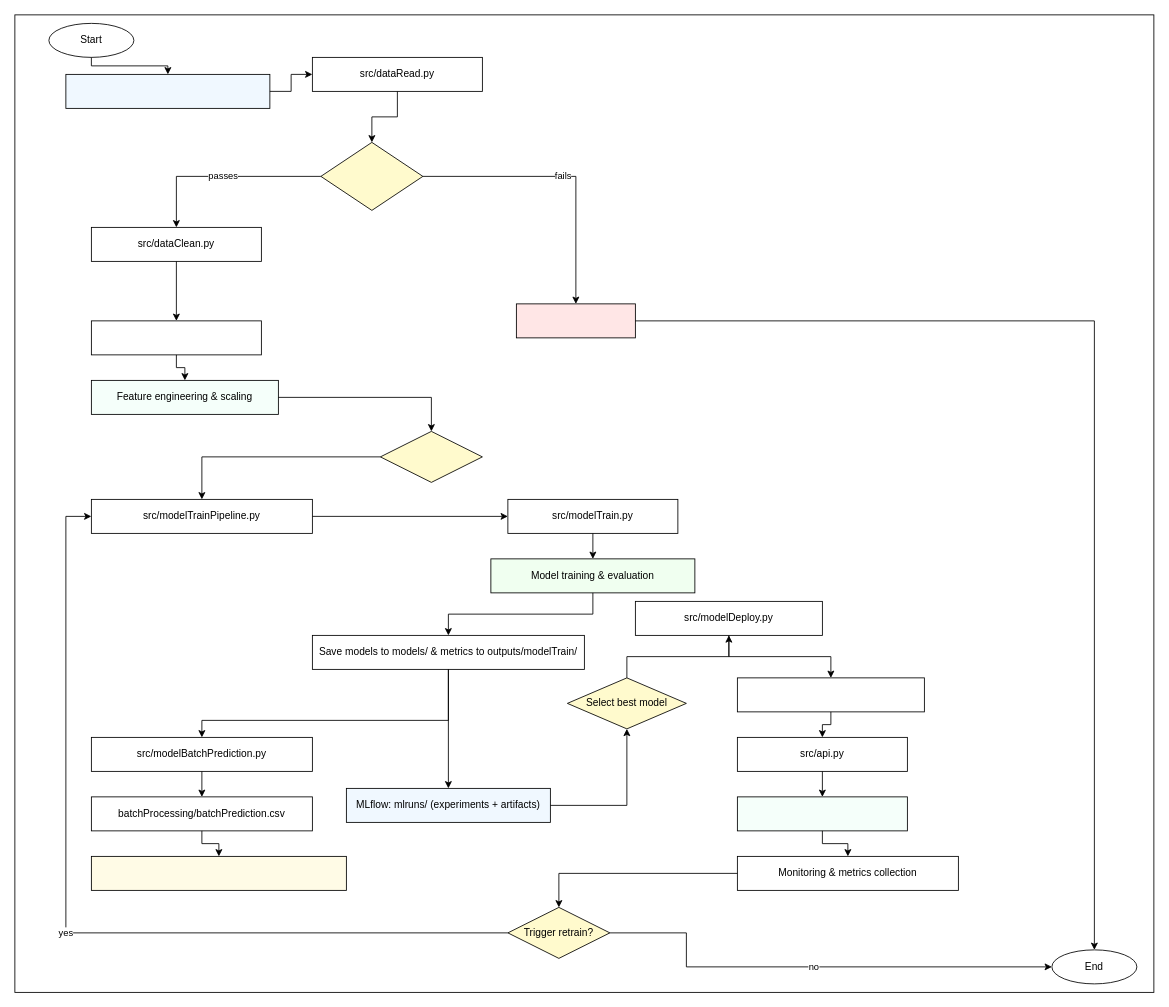
The diagram is 1169 pixels wide and 1007 high, and some of its shapes have lost their labels. Here are the shapes that lost their labels. From the top down, the box of each, then its label:
(65, 74, 270, 108): Data: DataSet/heart_disease_cleveland.csv
(320, 142, 423, 210): Data validation
(91, 320, 261, 355): src/dataEDA.py
(516, 303, 635, 338): Abort / Notify
(380, 431, 482, 482): Split: train / test
(737, 677, 924, 712): Save deployed_model.joblib and artifacts
(737, 796, 907, 831): Serve / REST endpoint
(91, 856, 346, 890): outputs/eda/report.html
